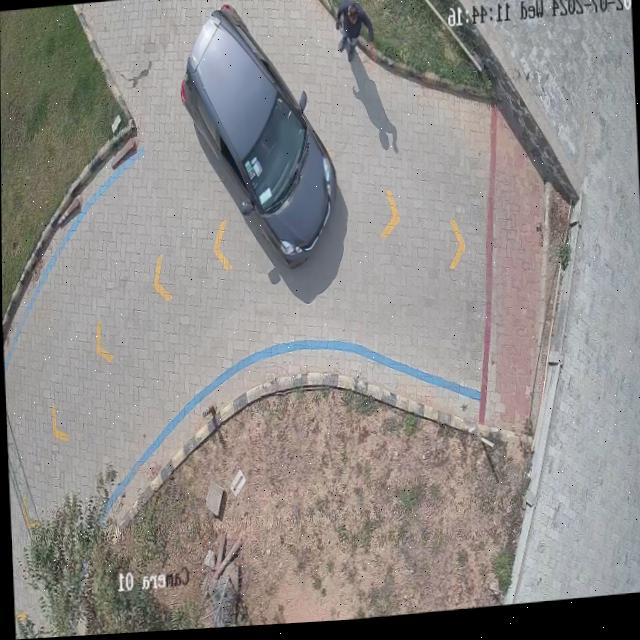car: (180, 5, 337, 272)
